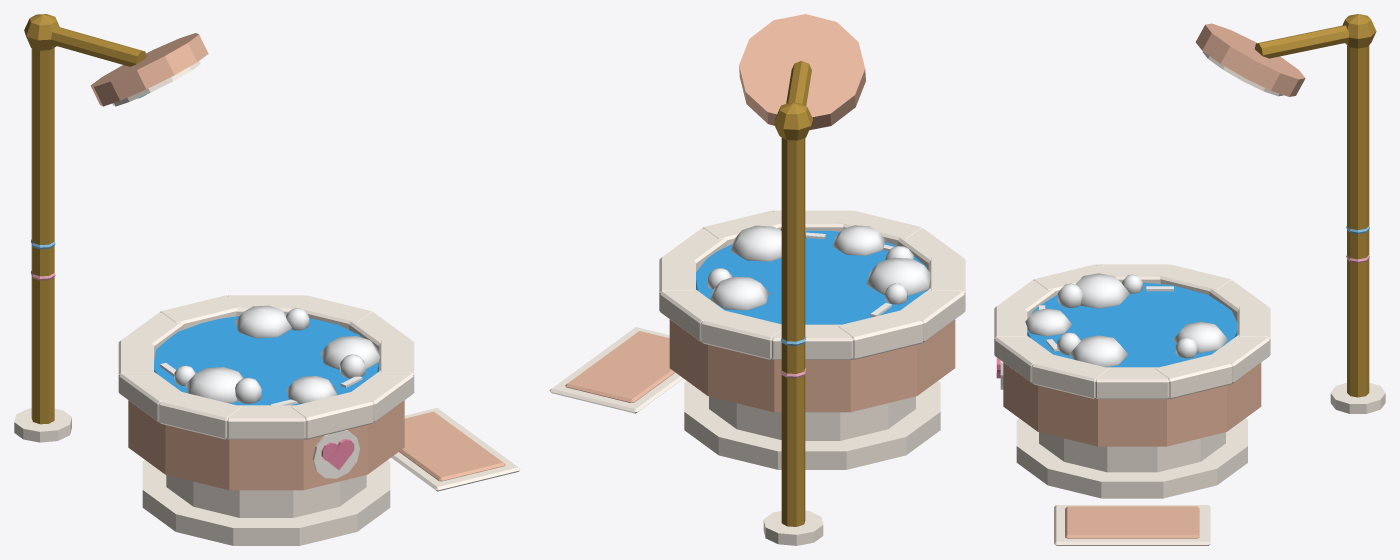
The model's file is CleanACat_Station_WashStandJo.fbx.
3 views of the same model, side by side, from view 1: azimuth 30°, elevation 25°; view 2: azimuth 150°, elevation 25°; view 3: azimuth 270°, elevation 25° (orthographic). The views are drawn at different scales.
Visible parts, largest first — view 1: CleanACat_Station_WashStandJo, CleanACat_Station_WashStandJo_Water, CleanACat_Station_WashStandJo_Foam, CleanACat_Station_WashStandJo_Decor; view 2: CleanACat_Station_WashStandJo, CleanACat_Station_WashStandJo_Decor, CleanACat_Station_WashStandJo_Water, CleanACat_Station_WashStandJo_Foam; view 3: CleanACat_Station_WashStandJo, CleanACat_Station_WashStandJo_Water, CleanACat_Station_WashStandJo_Decor, CleanACat_Station_WashStandJo_Foam.
Part boxes in pixels (<box>): CleanACat_Station_WashStandJo: <box>14,48,520,545</box>; CleanACat_Station_WashStandJo_Water: <box>154,316,378,405</box>; CleanACat_Station_WashStandJo_Foam: <box>174,305,379,403</box>; CleanACat_Station_WashStandJo_Decor: <box>24,14,208,106</box>; CleanACat_Station_WashStandJo: <box>549,138,965,545</box>; CleanACat_Station_WashStandJo_Decor: <box>739,14,865,140</box>; CleanACat_Station_WashStandJo_Water: <box>696,230,928,324</box>; CleanACat_Station_WashStandJo_Foam: <box>708,225,930,310</box>; CleanACat_Station_WashStandJo: <box>994,45,1385,545</box>; CleanACat_Station_WashStandJo_Water: <box>1027,282,1237,367</box>; CleanACat_Station_WashStandJo_Decor: <box>1195,14,1376,96</box>; CleanACat_Station_WashStandJo_Foam: <box>1025,273,1228,367</box>.
Bounding box in the file's own units: 5.4 × 6.47 × 5.74.
1 material, 1 textured.
